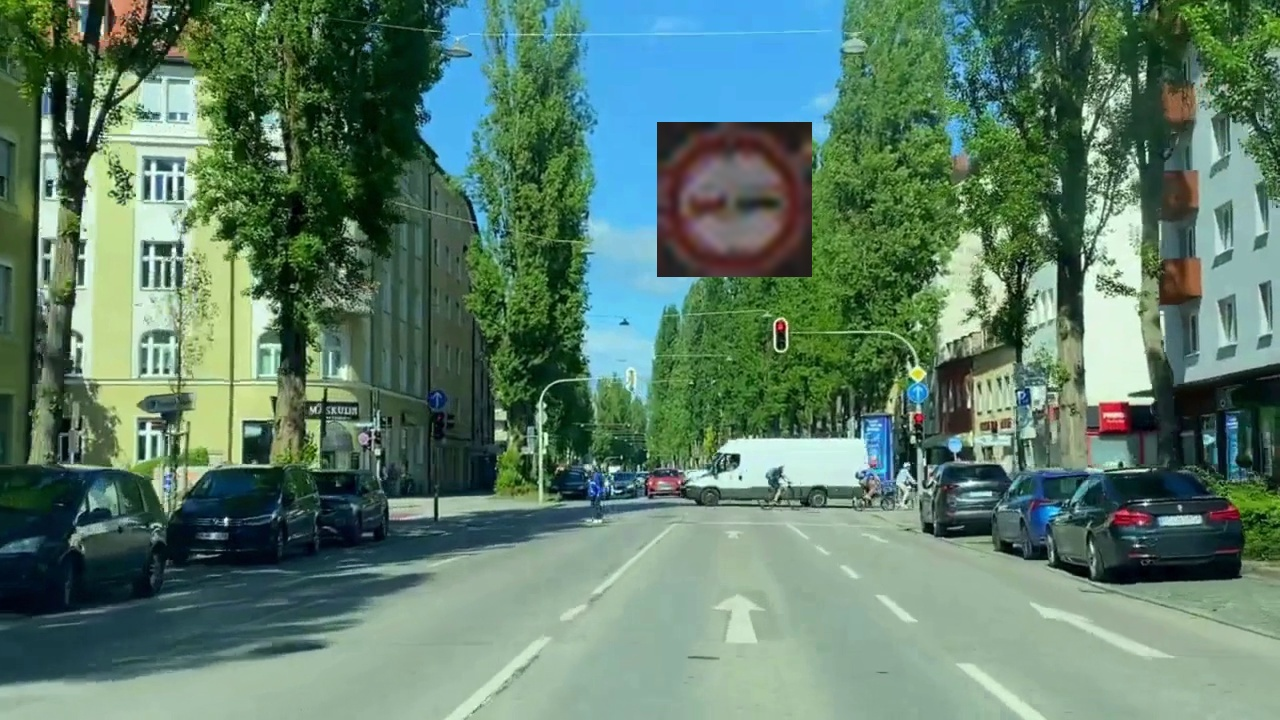No passing: (657, 122, 812, 277)
